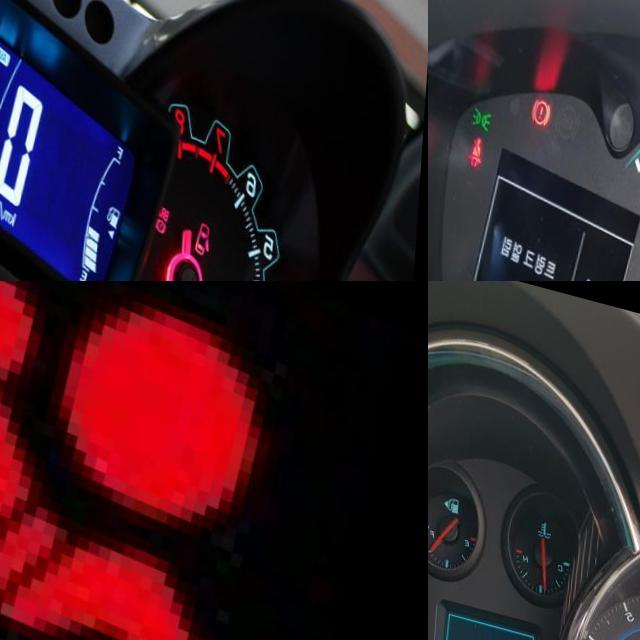Doors: (200, 195, 218, 235)
SideLamp: (474, 95, 497, 124)
